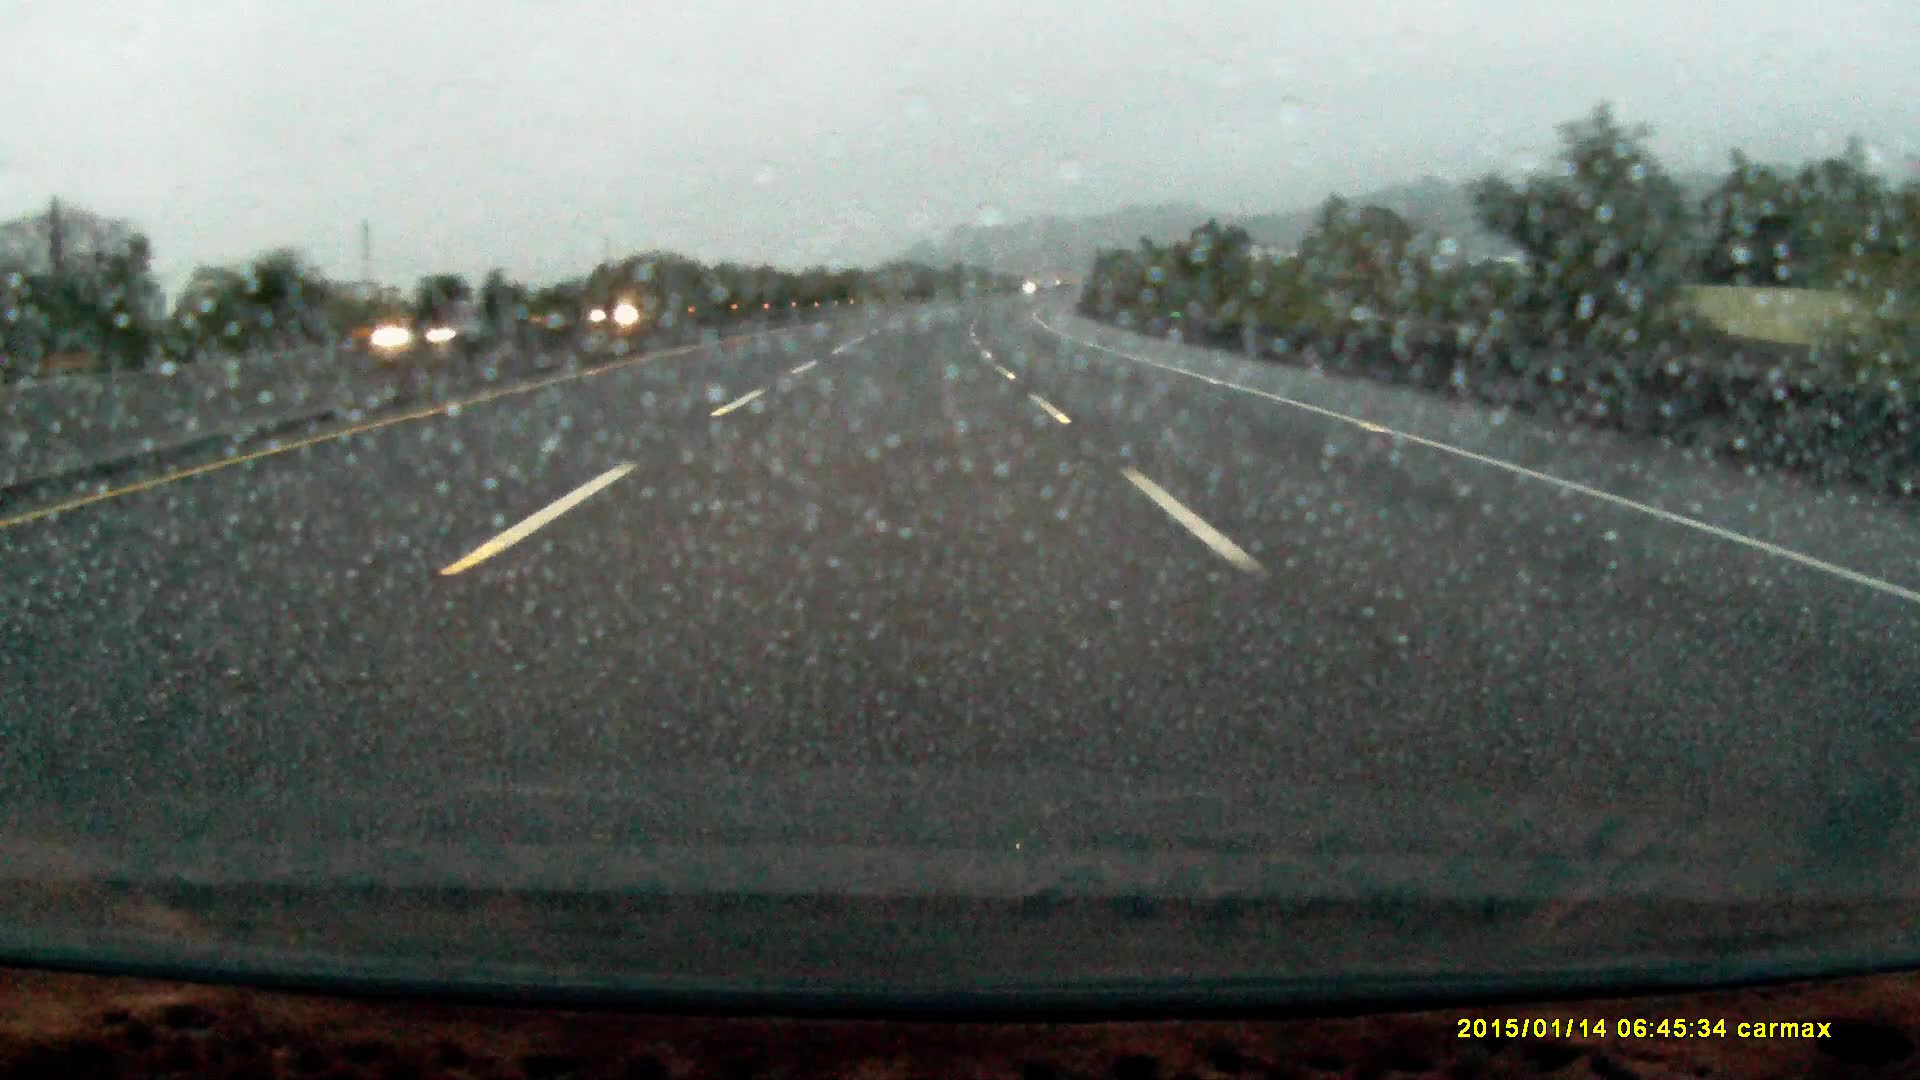vehicle: (372, 299, 530, 347), (588, 295, 665, 327)
